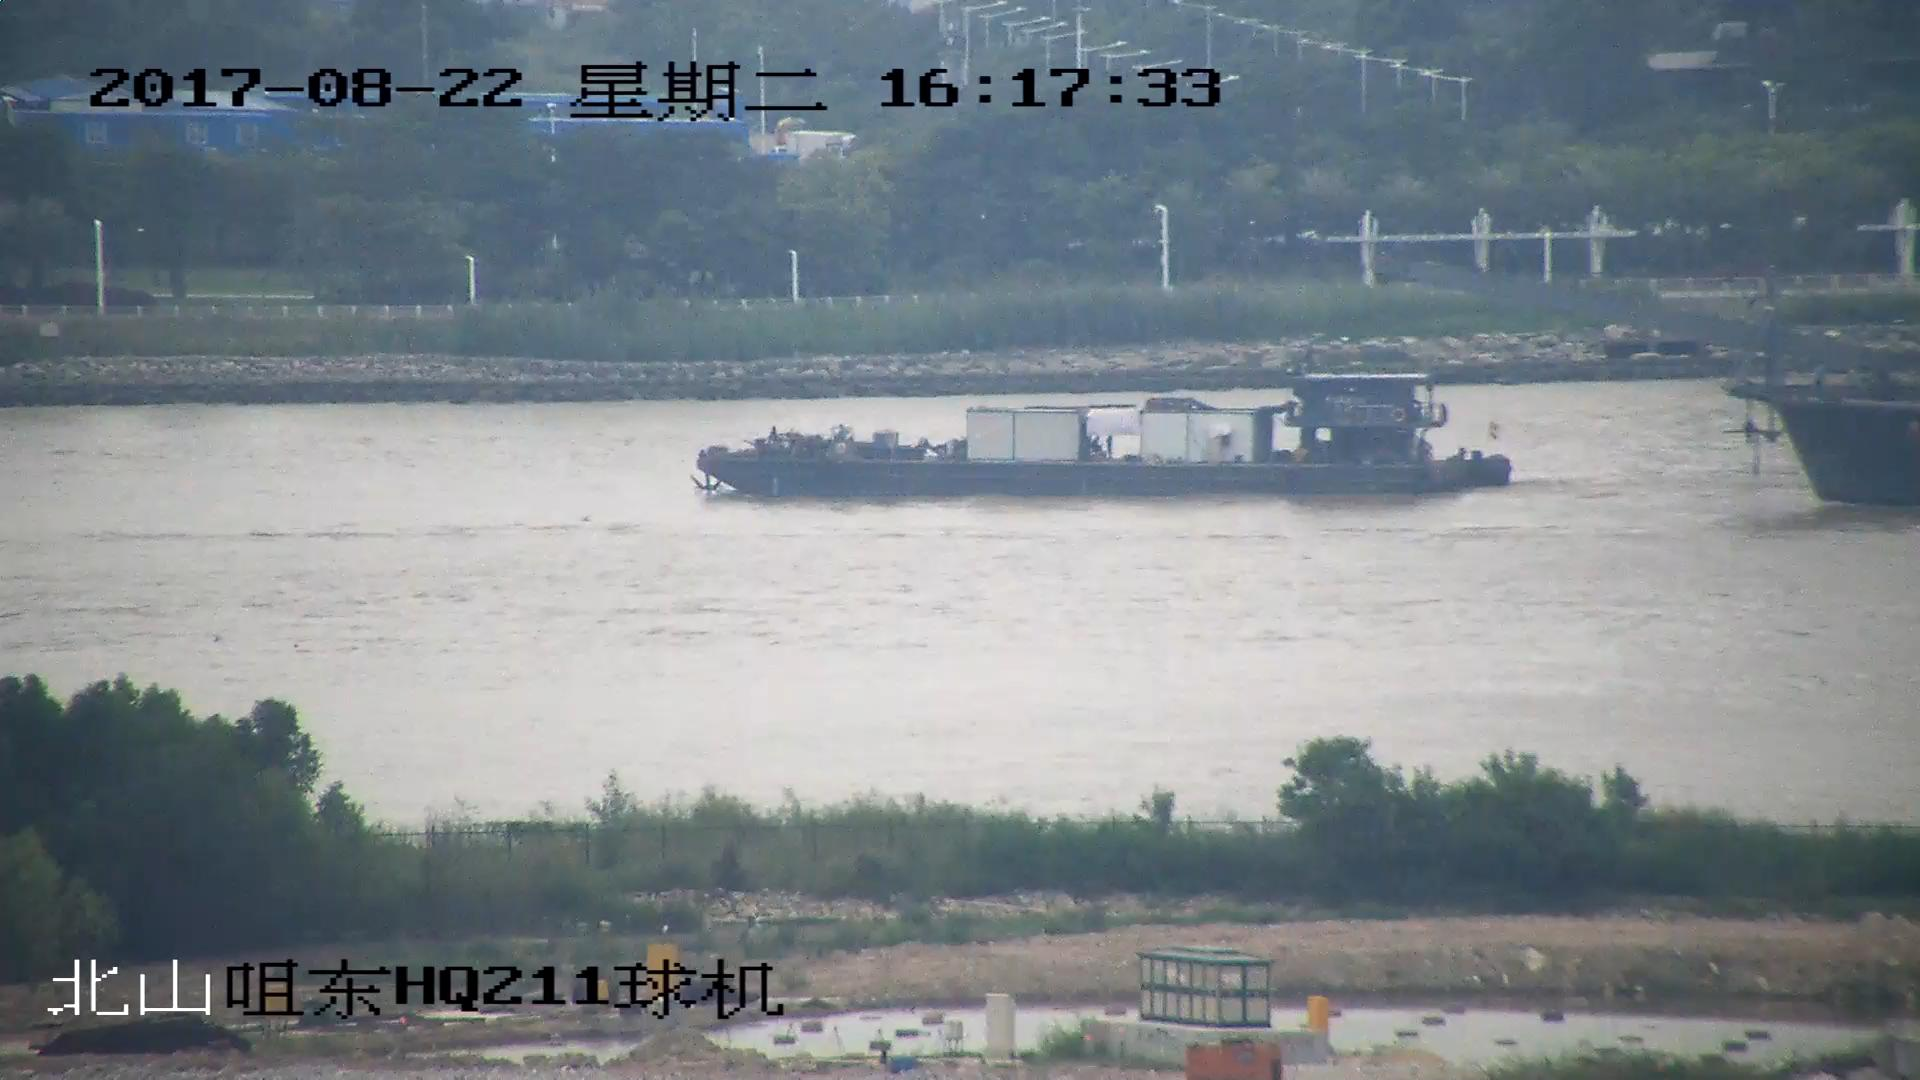bulk cargo carrier: (1408, 261, 1920, 513), (684, 374, 1510, 501)
